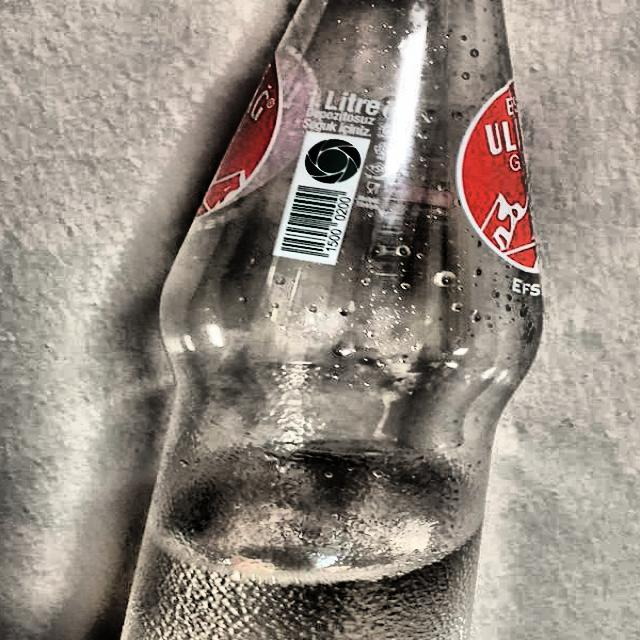plastic: (113, 0, 556, 640)
